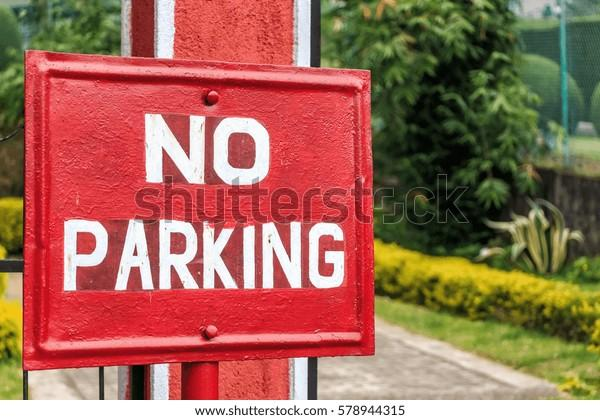No Parking: (34, 85, 368, 329)
